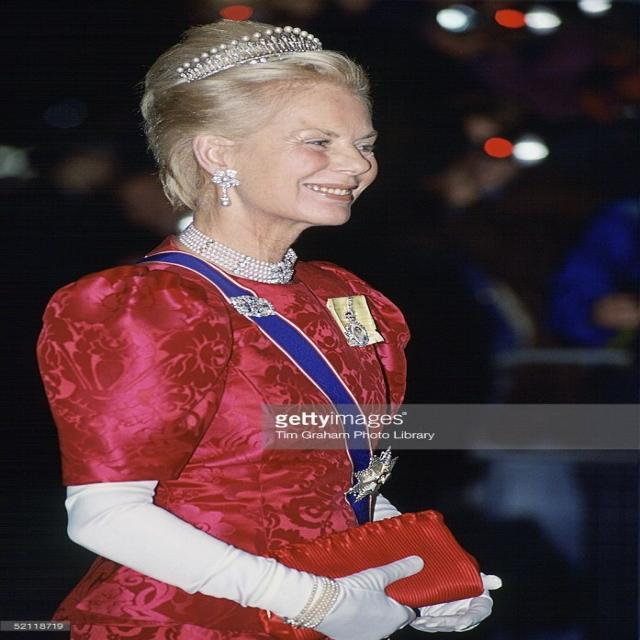Earring: (211, 166, 243, 214)
